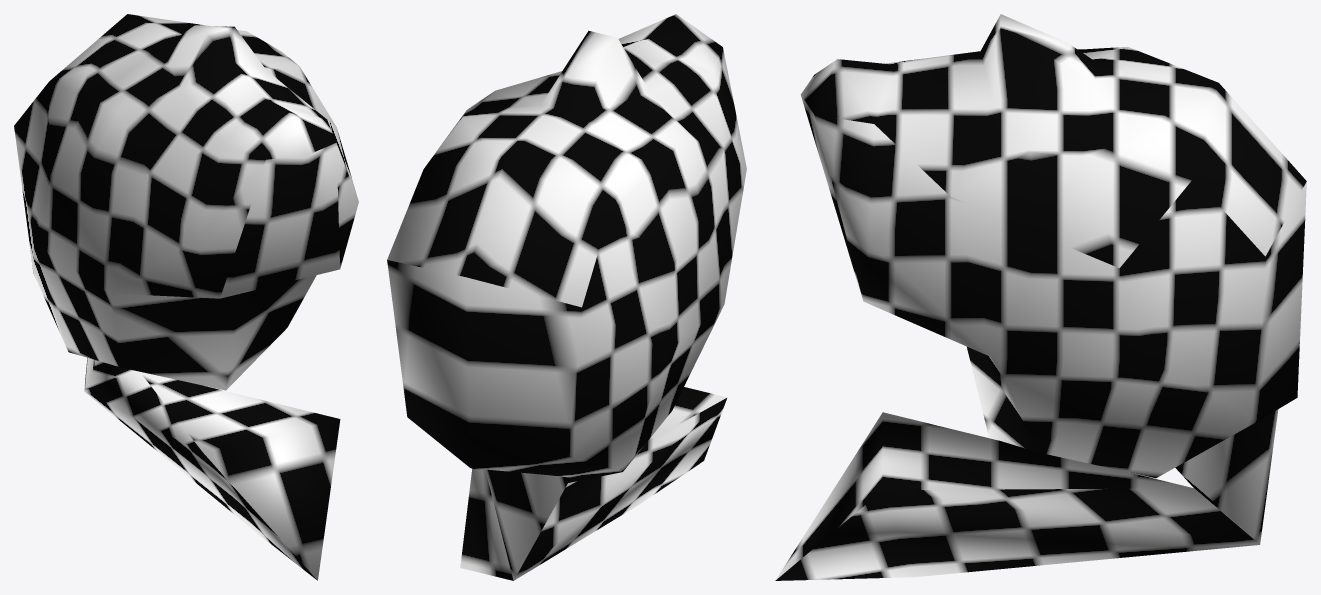
File: infaunhuma25.dae
3 renders of one model, left to right at view 1: azimuth 30°, elevation 25°; view 2: azimuth 150°, elevation 25°; view 3: azimuth 270°, elevation 25°, orthographic. The views are drawn at different scales.
Visible parts, largest first — view 1: face; view 2: face; view 3: face.
Part boxes in pixels (bbox=[...]): face: bbox=[14, 14, 358, 580]; face: bbox=[387, 14, 746, 580]; face: bbox=[775, 14, 1306, 580].
Bounding box in the file's own units: 0.9331 × 1.48 × 1.72.
1 material, 1 textured.
